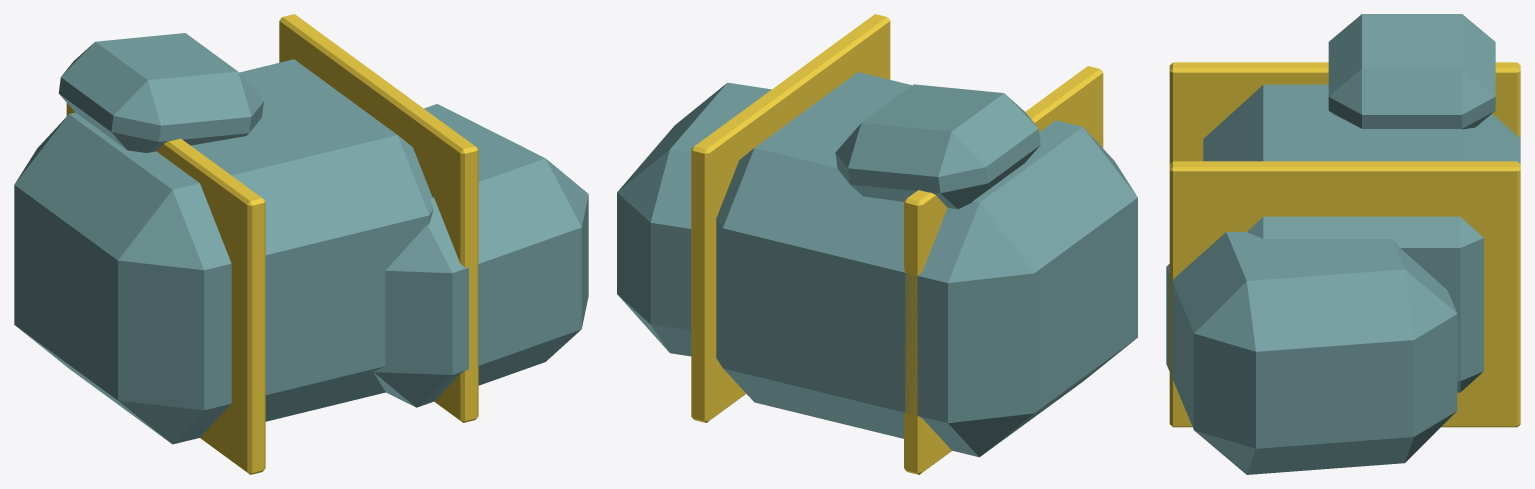
The model's file is tarp_pile.glb.
3 views of the same model, side by side, from view 1: azimuth 30°, elevation 25°; view 2: azimuth 150°, elevation 25°; view 3: azimuth 270°, elevation 25° (orthographic). The views are drawn at different scales.
Visible parts, largest first — view 1: tarp_pile; view 2: tarp_pile; view 3: tarp_pile.
Boxes of the visible parts, <box> form: tarp_pile: <box>14,14,588,474</box>; tarp_pile: <box>617,14,1137,474</box>; tarp_pile: <box>1166,14,1520,474</box>.
Size of the model in its own units: 1.54 by 1.01 by 1.06.
